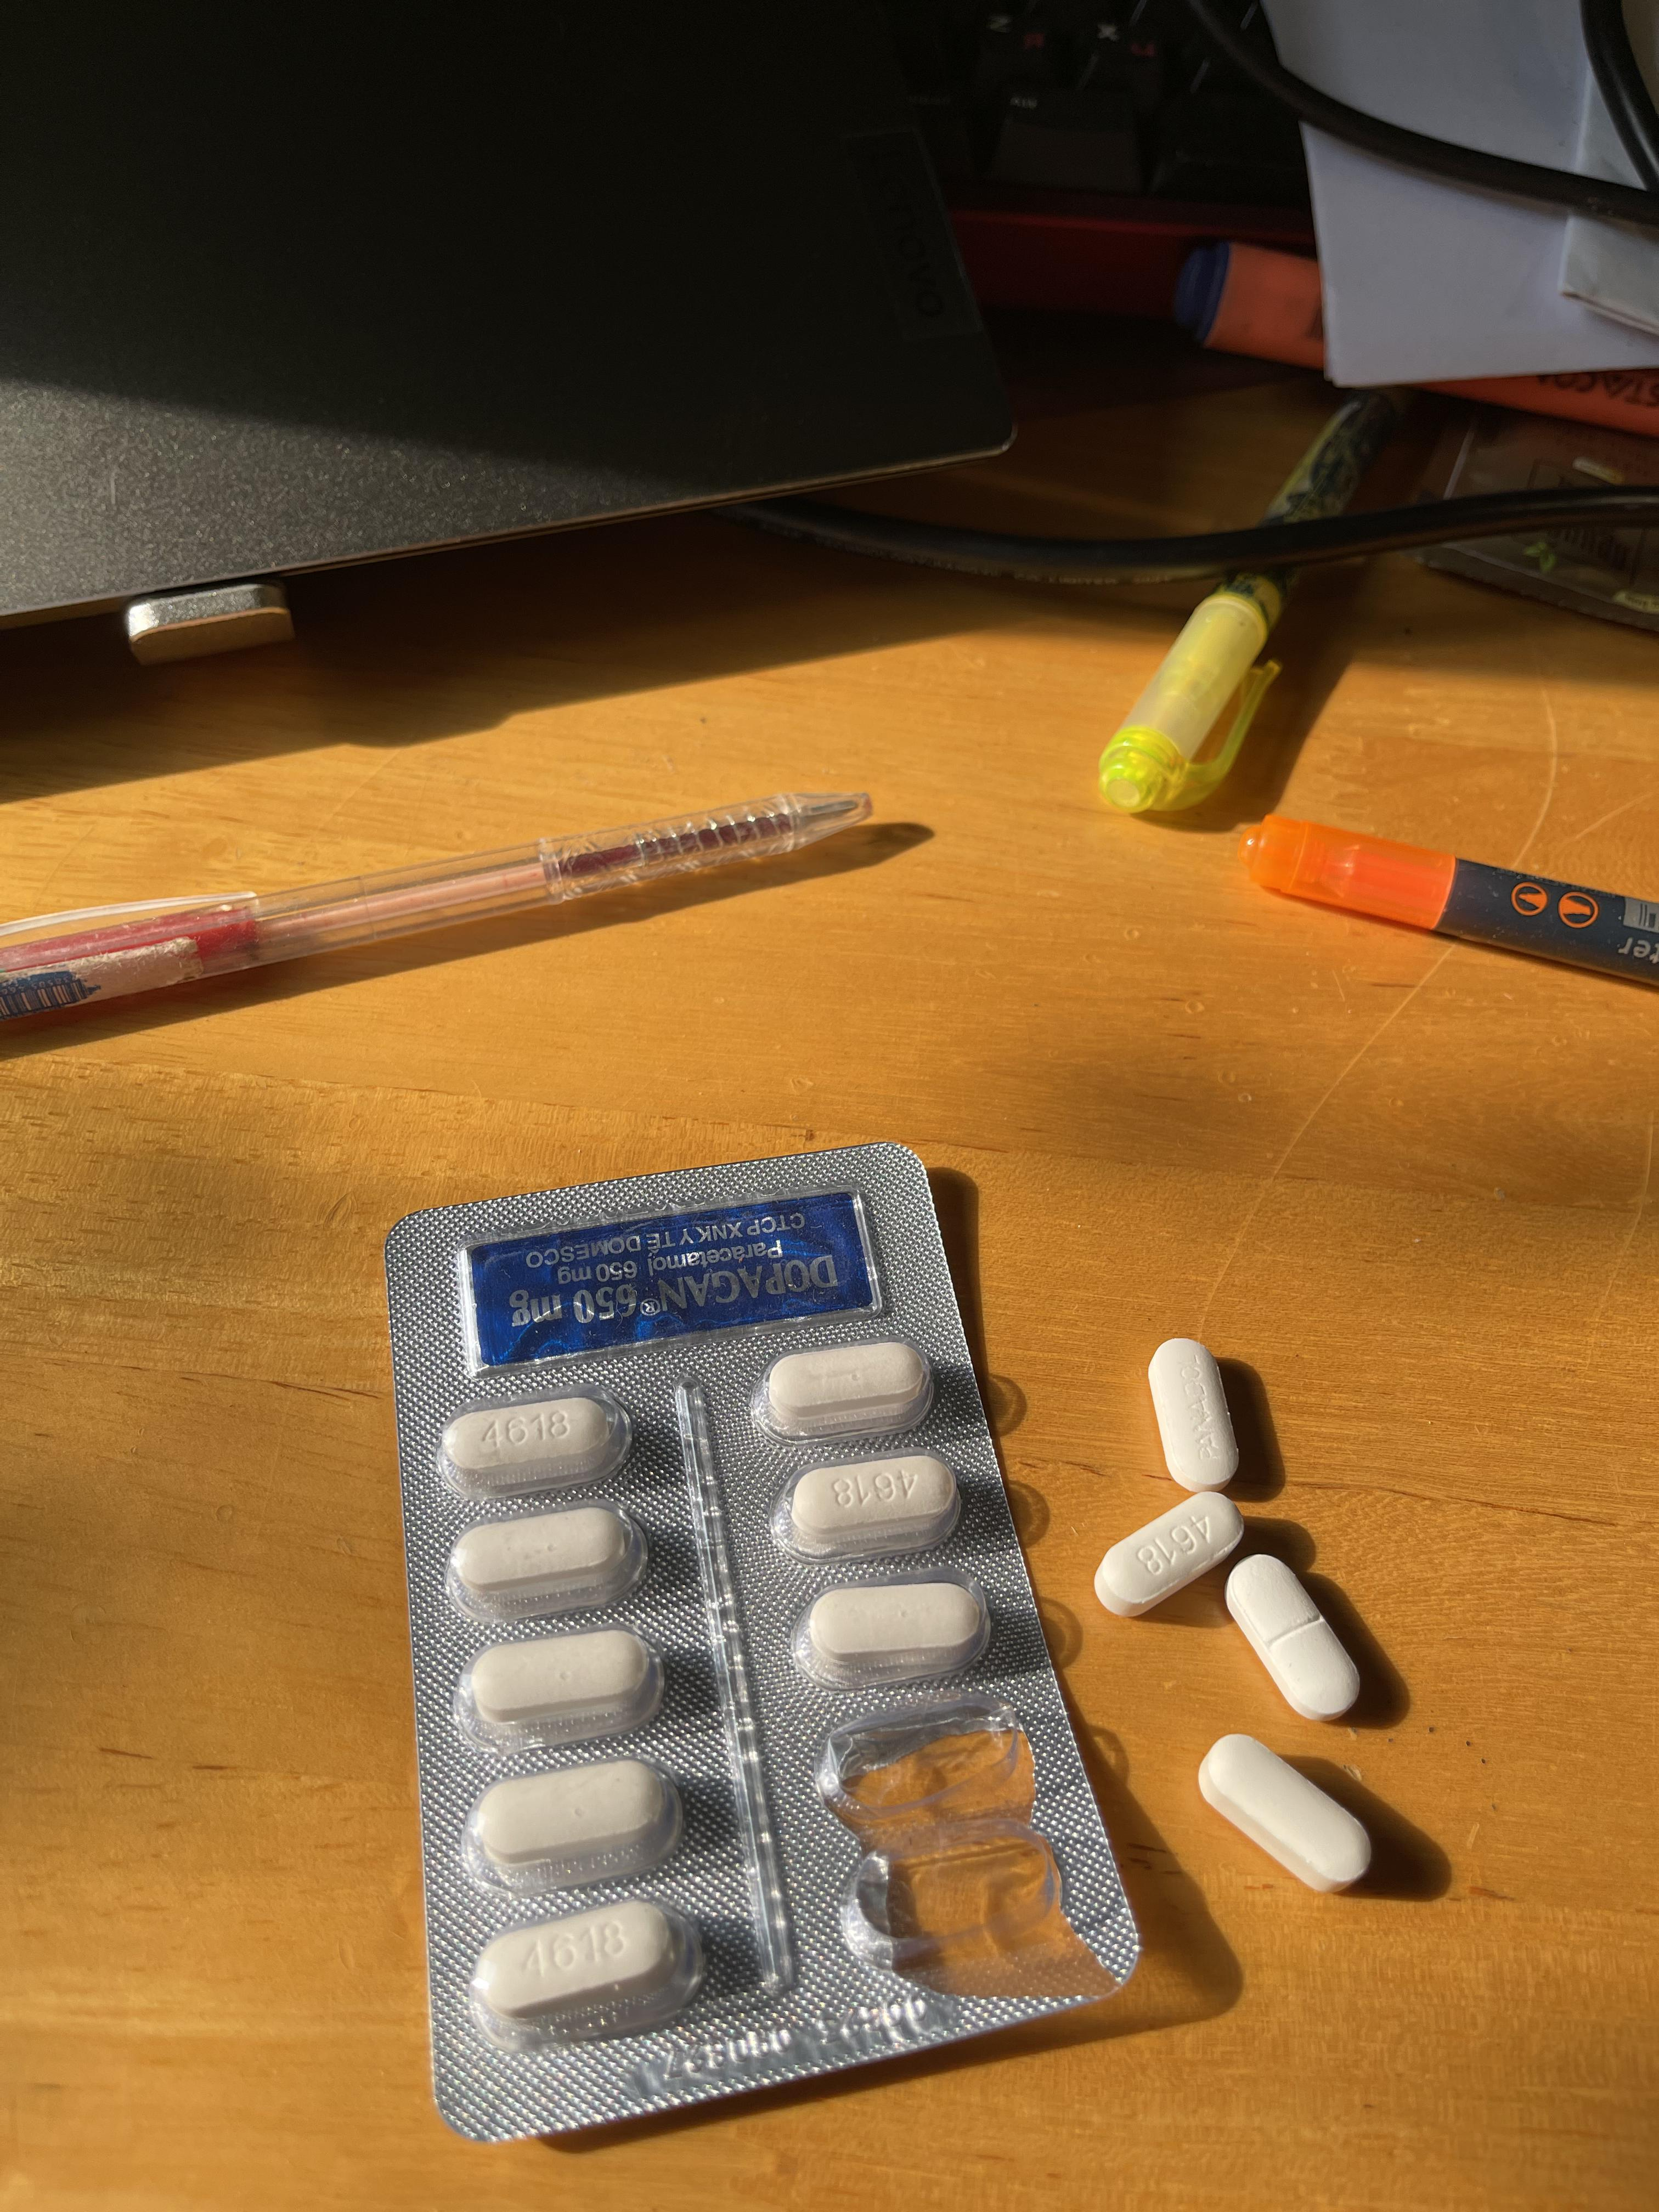Paracetamol_350mg: (1223, 1552, 1358, 1724), (1147, 1339, 1243, 1494)
Paracetamol_500mg: (464, 1757, 681, 1893), (1195, 1737, 1375, 1893), (476, 1900, 683, 2027), (457, 1625, 660, 1742), (446, 1503, 640, 1611), (796, 1580, 986, 1683), (439, 1390, 627, 1489), (781, 1451, 958, 1554), (1098, 1491, 1236, 1622), (758, 1339, 929, 1437)
